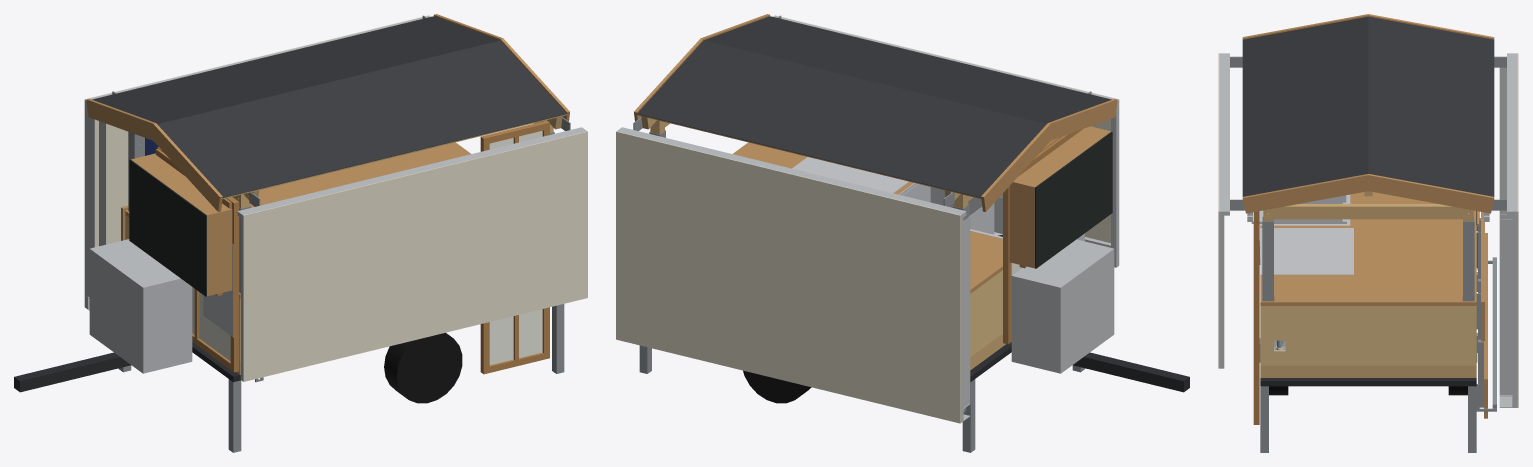
The picture shows the model from 3 angles, left to right: view 1: azimuth 30°, elevation 25°; view 2: azimuth 150°, elevation 25°; view 3: azimuth 270°, elevation 25°; orthographic projection. The views are drawn at different scales.
Parts seen in each view (by area): view 1: b290, b106, b283, b341, b4, b194, b75, b110, b313, b327, b312, b5 (+14 smaller); view 2: b194, b106, b283, b341, b110, b75, b325, b52, b5, b337, b77, b208 (+13 smaller); view 3: b106, b75, b56, b50, b112, b77, b116, b42, b214, b2, b312, b204 (+20 smaller).
Part boxes in pixels (box(x1,y1,x2,y2)): b290: box(243, 131, 587, 381); b106: box(92, 16, 566, 197); b283: box(89, 239, 192, 373); b341: box(129, 159, 206, 296); b4: box(384, 332, 462, 403); b194: box(84, 15, 428, 306); b75: box(125, 142, 470, 298); b110: box(86, 98, 222, 211); b313: box(489, 130, 542, 365); b327: box(206, 208, 232, 296); b312: box(480, 120, 549, 374); b5: box(14, 352, 130, 392); b194: box(616, 131, 960, 423); b106: box(637, 16, 1111, 197); b283: box(1011, 239, 1114, 373); b341: box(1035, 131, 1112, 268); b110: box(981, 98, 1117, 211); b75: box(733, 142, 1002, 293); b325: box(1009, 181, 1035, 268); b52: box(970, 270, 1002, 355); b5: box(1073, 352, 1189, 392); b337: box(1014, 127, 1109, 186); b77: box(792, 157, 908, 193); b208: box(963, 217, 970, 407); b106: box(1242, 16, 1494, 196); b75: box(1260, 192, 1476, 305); b56: box(1274, 306, 1442, 351); b50: box(1262, 306, 1474, 363); b112: box(1242, 174, 1494, 213); b77: box(1260, 228, 1353, 274); b116: box(1268, 204, 1468, 219); b42: box(1266, 365, 1470, 377); b214: box(1499, 219, 1512, 395); b2: box(1260, 378, 1476, 386); b312: box(1253, 211, 1259, 424); b204: box(1512, 209, 1517, 407).
Bounding box in the file's own units: 3710 × 2112 × 2080.
